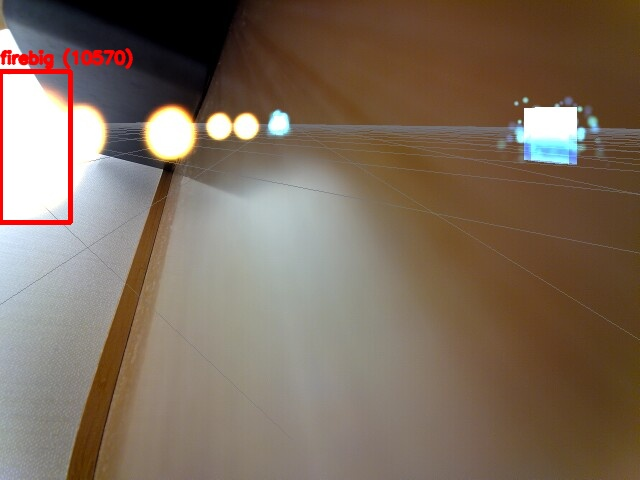firebig: (0, 71, 70, 222)
